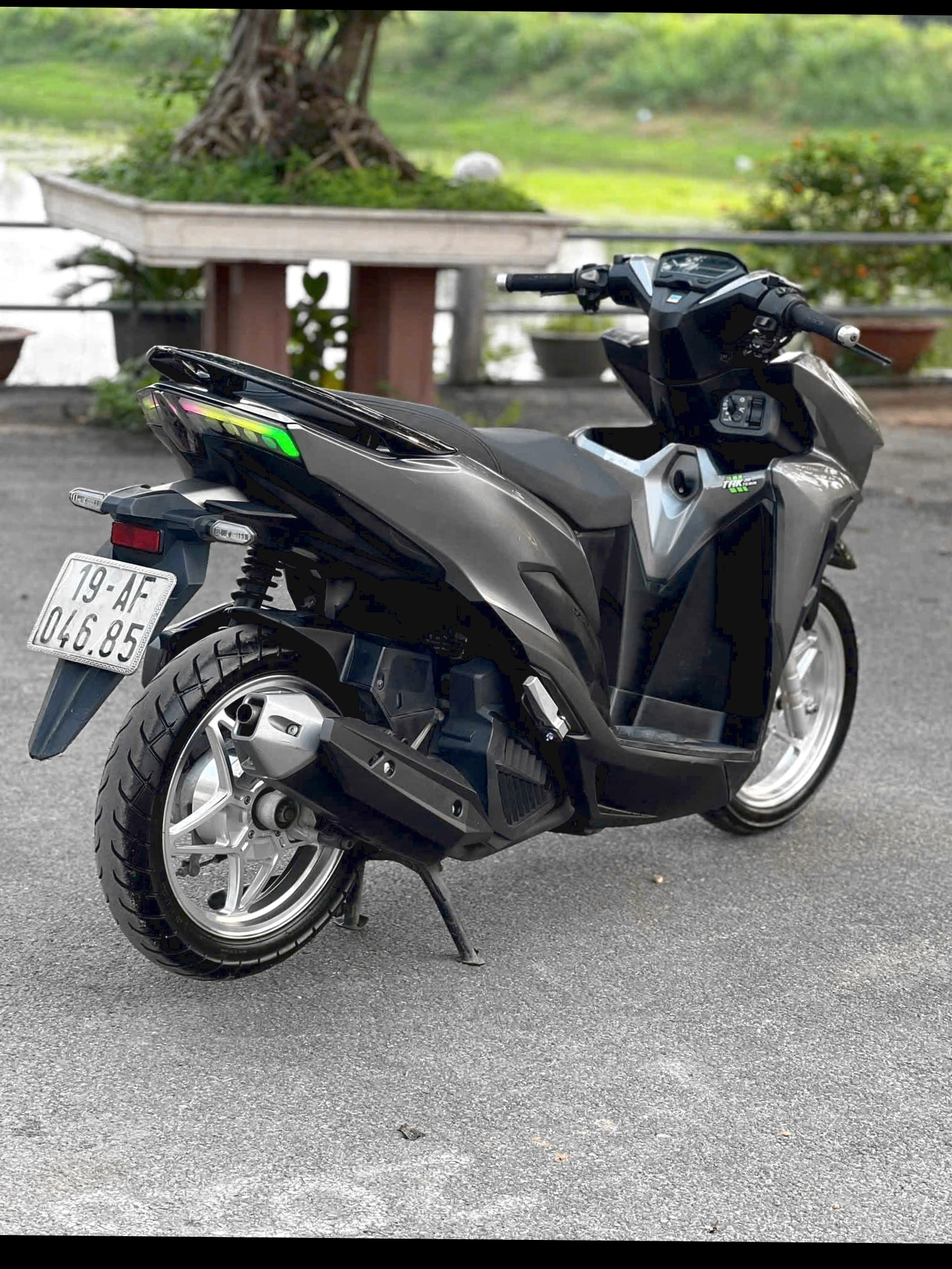Bien-so: (30, 549, 179, 675)
